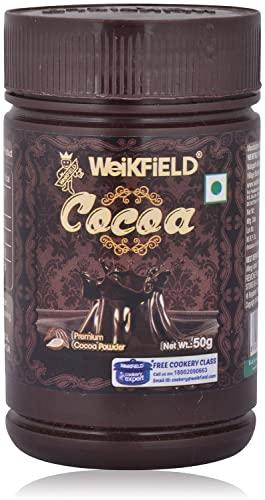Cocoa Powder: (10, 3, 253, 469)
